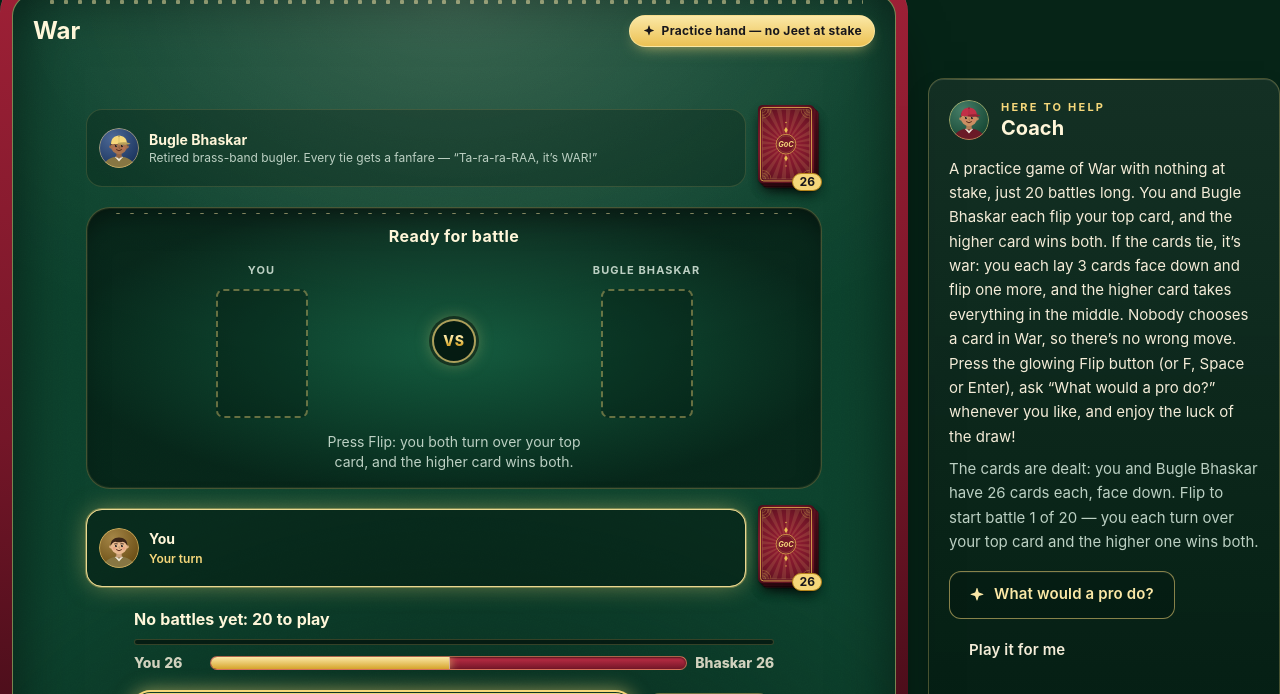
/games/war/try (PracticeHand + the real module) › "What would a pro do?" makes Flip pulse and explains that War is pure luck
The width and height of the screenshot is (1280, 694).
Click the button with test id "coach-hint" at [1062, 594], box [949, 570, 1175, 618]
(page scrolled)
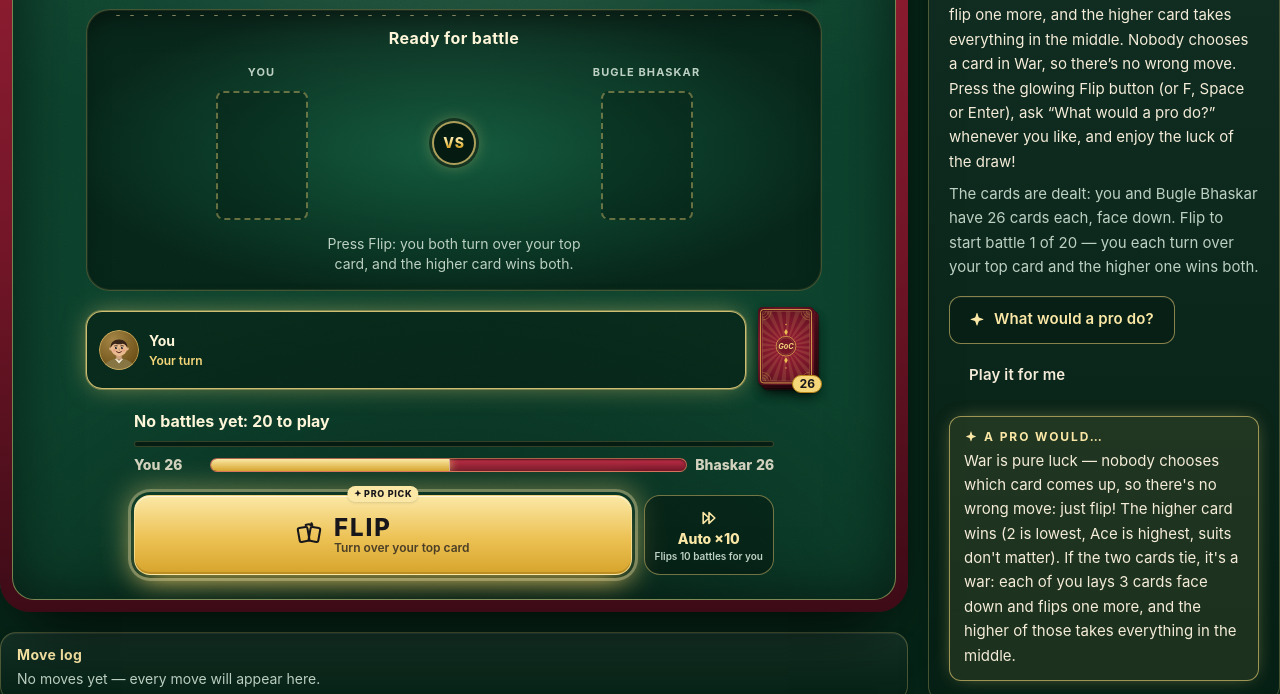
Expected: the element with test id "coach-hint-text" shows "War is pure luck", [964, 451, 1238, 665]
